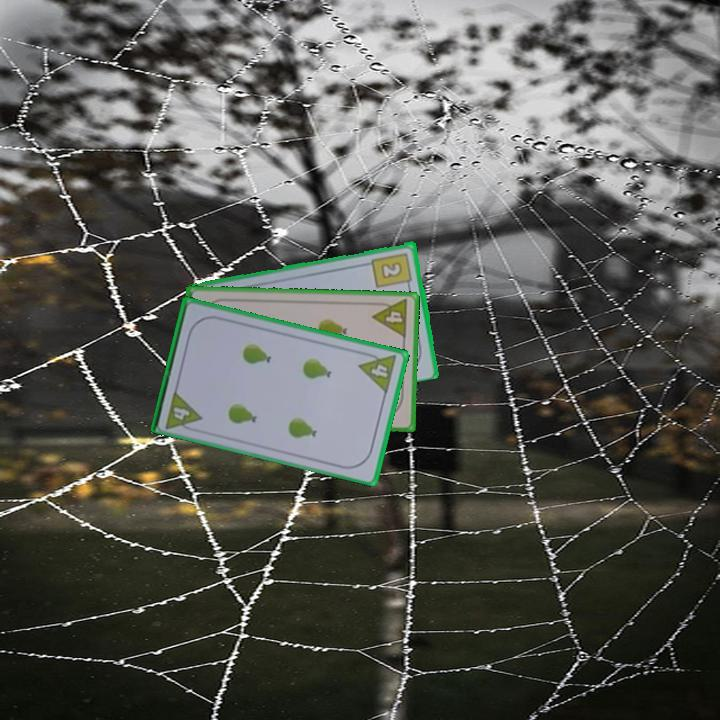2b: (369, 249, 415, 291)
4p: (355, 348, 399, 396), (162, 386, 204, 435), (369, 296, 411, 340)
